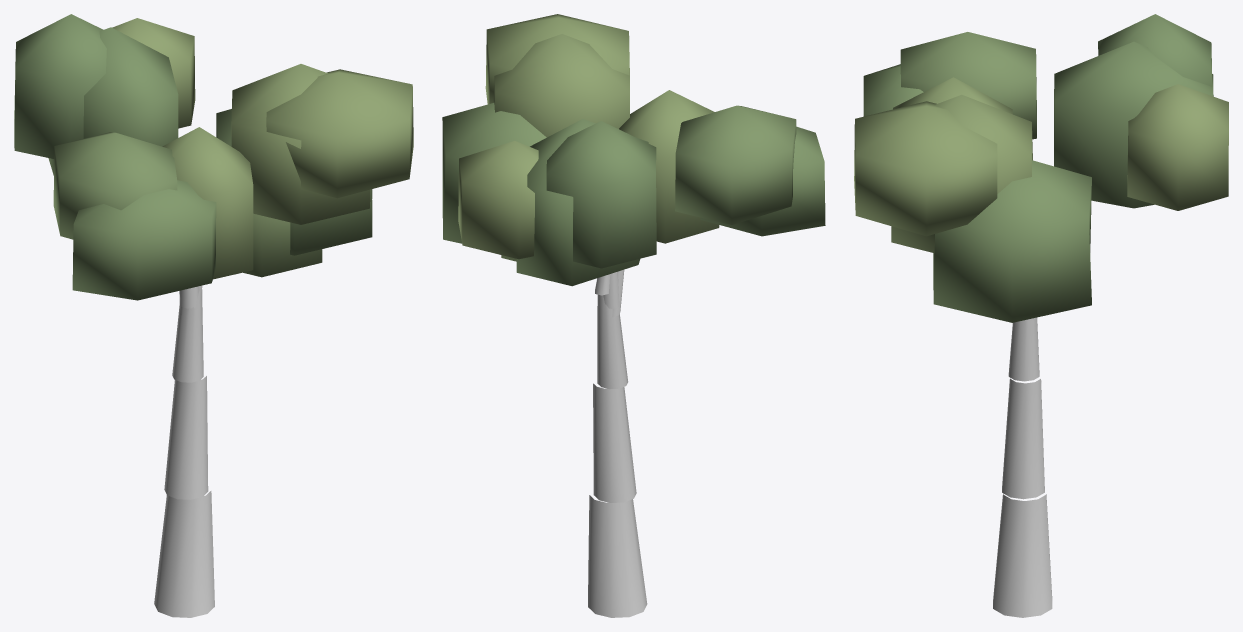
File: oak_v2_mid.gltf
3 views of the same model, side by side, from view 1: azimuth 30°, elevation 25°; view 2: azimuth 150°, elevation 25°; view 3: azimuth 270°, elevation 25° (orthographic). The views are drawn at different scales.
Parts seen in each view (by area): view 1: foliage, bark; view 2: foliage, bark; view 3: foliage, bark.
Boxes of the visible parts, <box> form: foliage: <box>14,14,413,300</box>; bark: <box>154,273,240,617</box>; foliage: <box>442,14,825,286</box>; bark: <box>588,269,647,617</box>; foliage: <box>854,14,1228,322</box>; bark: <box>993,317,1052,617</box>.
Bounding box in the file's own units: 3.4 × 5.21 × 3.12.
